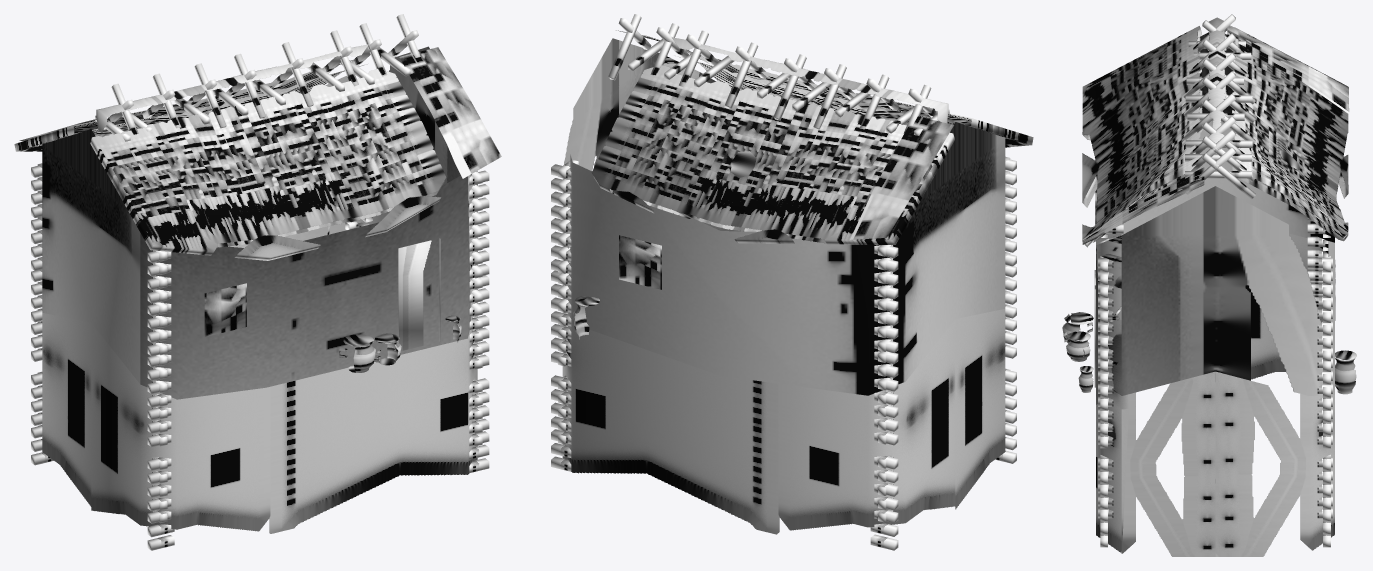
The model's file is mex_house_a.dae.
3 views of the same model, side by side, from view 1: azimuth 30°, elevation 25°; view 2: azimuth 150°, elevation 25°; view 3: azimuth 270°, elevation 25° (orthographic). The views are drawn at different scales.
Visible parts, largest first — view 1: HouseA; view 2: HouseA; view 3: HouseA.
Boxes of the visible parts, left/top/right/bottom form: HouseA: left=14, top=14, right=501, bottom=550; HouseA: left=551, top=14, right=1033, bottom=550; HouseA: left=1062, top=14, right=1356, bottom=556.
Size of the model in its own units: 16.86 by 12.79 by 19.05.
